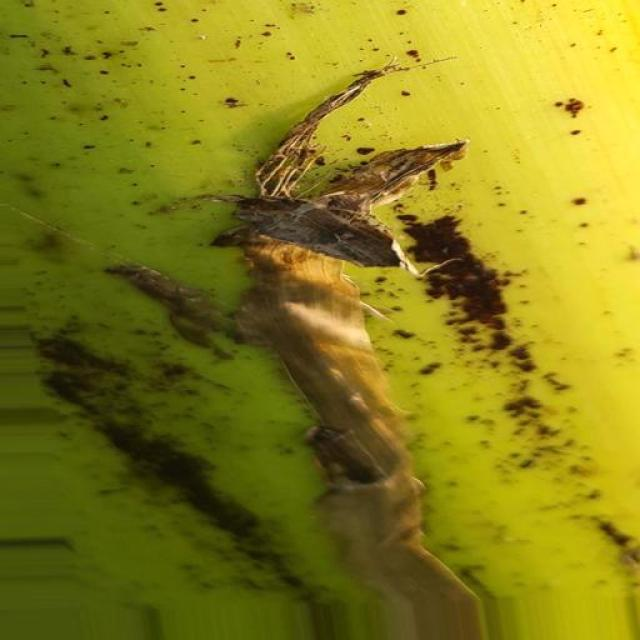Anthracnose: (4, 3, 640, 575)
